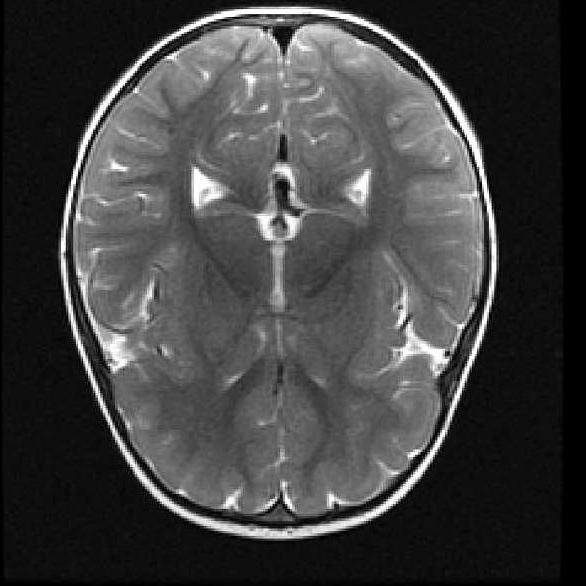Normal_Brain: (1, 1, 586, 586)
